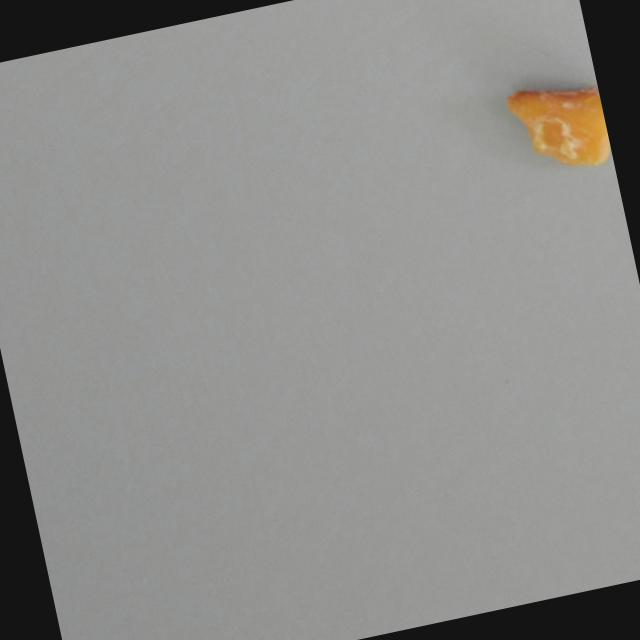dañado: (496, 67, 615, 187)
